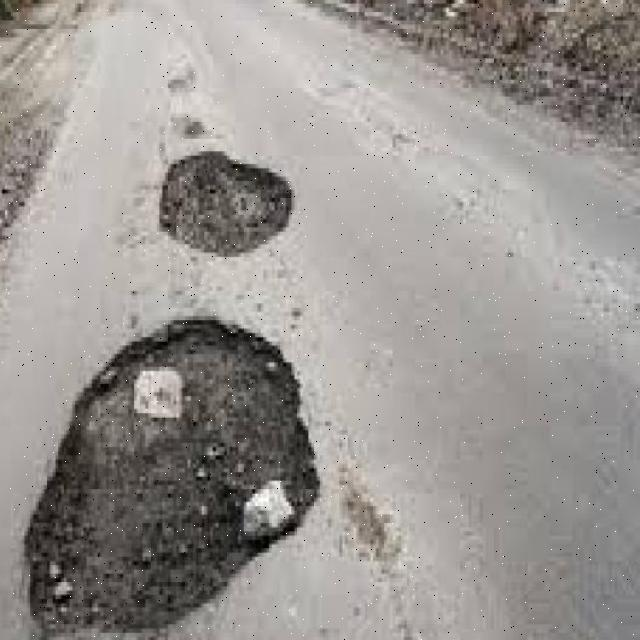pothole: (11, 316, 322, 640), (162, 151, 292, 261)
